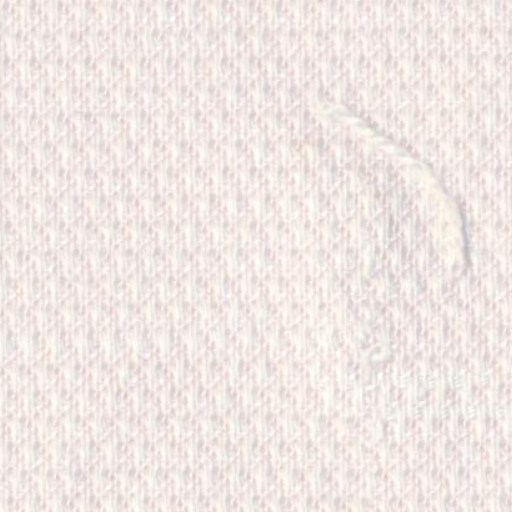DuanSha: (304, 70, 480, 282)
